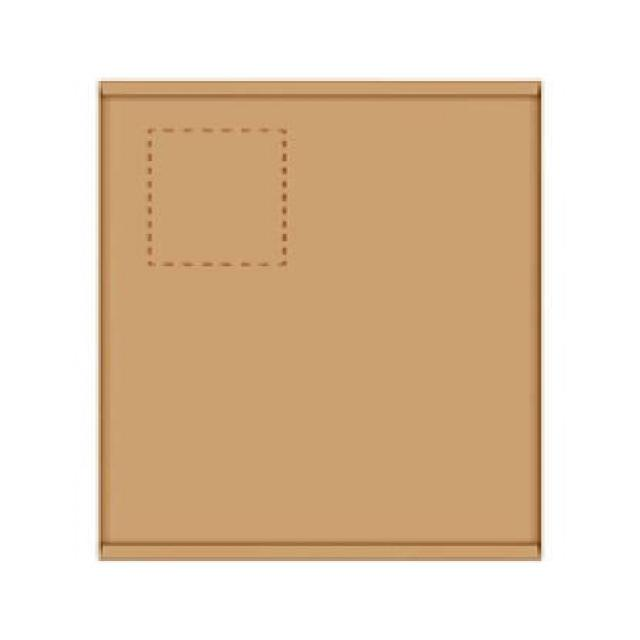normal: (95, 71, 548, 566)
